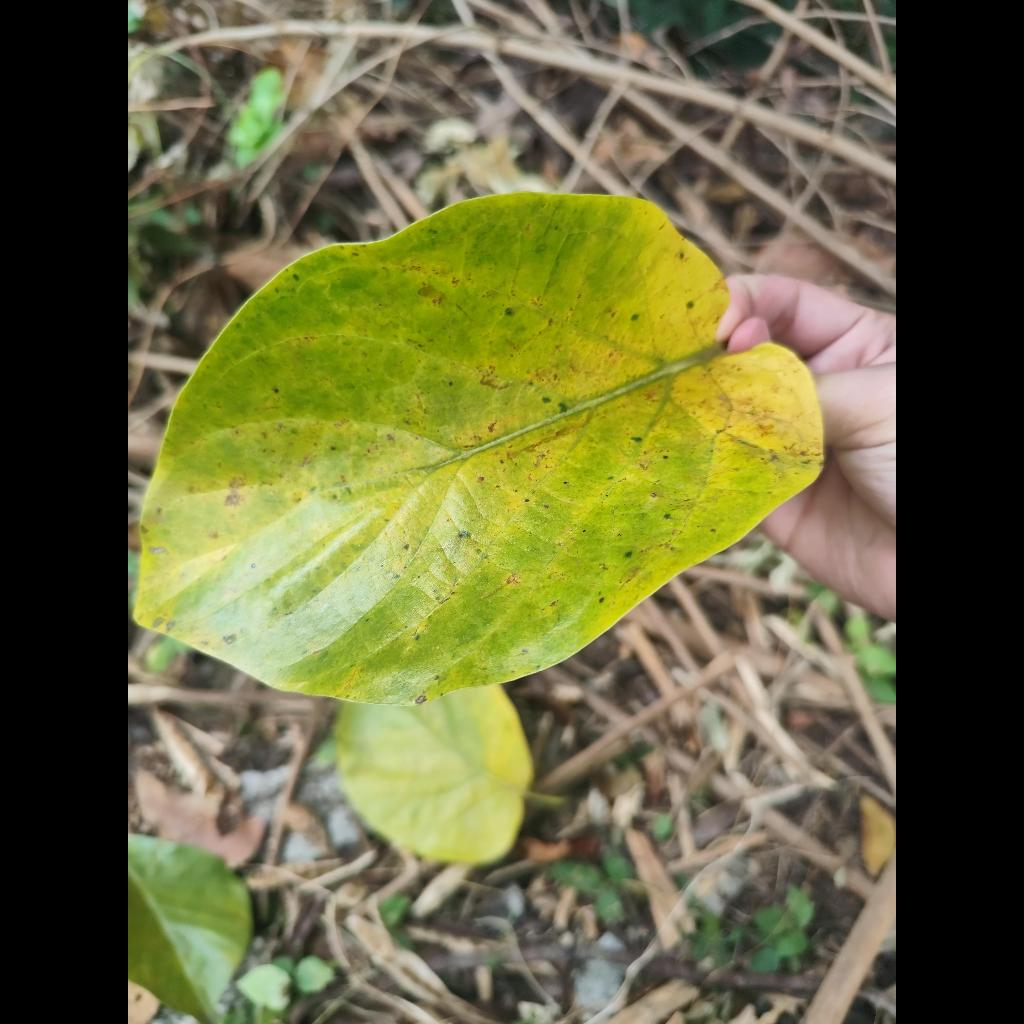deficiencia_nutricional: (136, 193, 822, 710)
